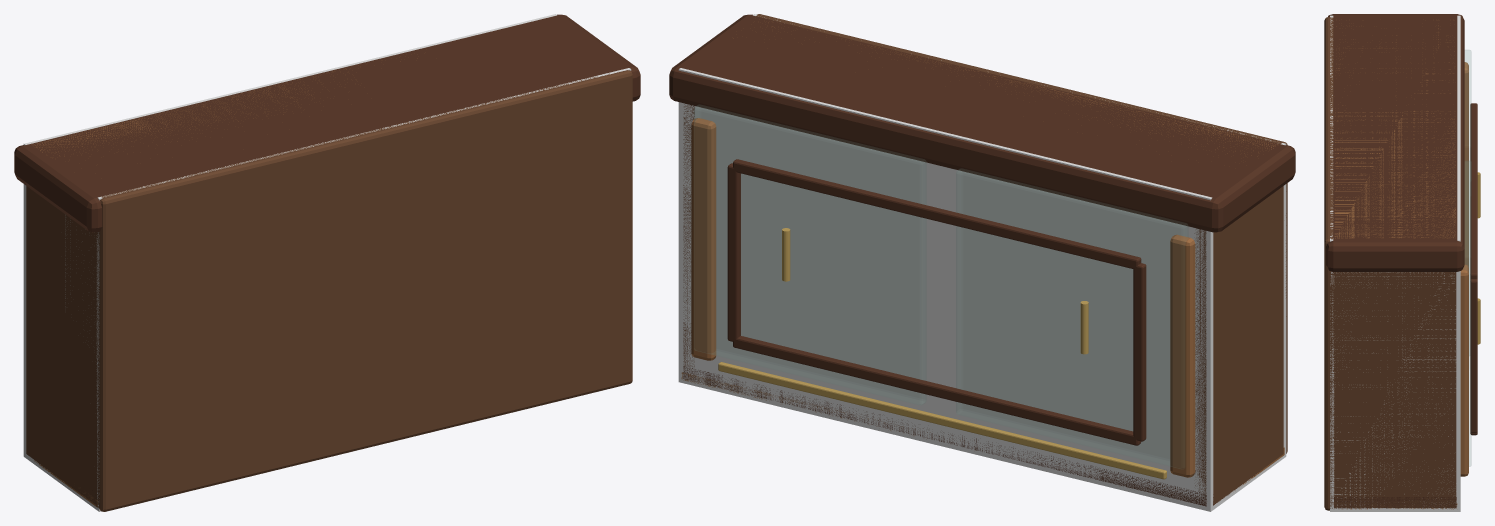
The model's file is executive.glb.
3 renders of one model, left to right at view 1: azimuth 30°, elevation 25°; view 2: azimuth 150°, elevation 25°; view 3: azimuth 270°, elevation 25°, orthographic. The views are drawn at different scales.
Visible parts, largest first — view 1: Cabinet_Back.004, Cabinet_Cornice, Cabinet_Side.008, COL_WALL_CABINETS_EXECUTIVE, Cabinet_Top.004; view 2: COL_WALL_CABINETS_EXECUTIVE, Cabinet_Cornice, Cabinet_Door_-1.004, Cabinet_Door_1.004, Cabinet_Side.008, Cabinet_FlutedPilaster, Cabinet_FlutedPilaster.001, Cabinet_TrimTop.002, Cabinet_TrimBottom.002, Cabinet_BrassToeKick.001, Cabinet_Bottom.004, Cabinet_Back.004 (+3 smaller); view 3: Cabinet_Cornice, Cabinet_Side.009, Cabinet_Back.004, COL_WALL_CABINETS_EXECUTIVE, Cabinet_Top.004, Cabinet_FlutedPilaster.001, Cabinet_TrimTop.002, Cabinet_TrimRight.002, Cabinet_Bottom.004, Cabinet_Door_1.004, Cabinet_FlutedPilaster, Cabinet_Door_-1.004.
Part boxes in pixels (x1,y1,x2,y2): Cabinet_Back.004: (95,70,632,511); Cabinet_Cornice: (14,14,640,232); Cabinet_Side.008: (26,186,96,504); COL_WALL_CABINETS_EXECUTIVE: (23,14,631,511); Cabinet_Top.004: (31,58,417,156); COL_WALL_CABINETS_EXECUTIVE: (678,14,1286,511); Cabinet_Cornice: (669,14,1295,232); Cabinet_Door_-1.004: (956,169,1188,468); Cabinet_Door_1.004: (694,105,926,405); Cabinet_Side.008: (1194,186,1283,504); Cabinet_FlutedPilaster: (1170,234,1195,477); Cabinet_FlutedPilaster.001: (691,118,716,360); Cabinet_TrimTop.002: (733,159,1141,268); Cabinet_TrimBottom.002: (733,336,1141,445); Cabinet_BrassToeKick.001: (718,362,1166,479); Cabinet_Bottom.004: (683,366,1262,506); Cabinet_Back.004: (756,14,1287,453); Cabinet_Cornice: (1326,14,1464,271); Cabinet_Side.009: (1334,272,1456,507); Cabinet_Back.004: (1324,17,1336,510); COL_WALL_CABINETS_EXECUTIVE: (1330,15,1460,511); Cabinet_Top.004: (1334,25,1455,238); Cabinet_FlutedPilaster.001: (1460,264,1468,476); Cabinet_TrimTop.002: (1470,103,1477,278); Cabinet_TrimRight.002: (1470,279,1477,432); Cabinet_Bottom.004: (1334,497,1456,508); Cabinet_Door_1.004: (1465,161,1471,466); Cabinet_FlutedPilaster: (1464,62,1468,267); Cabinet_Door_-1.004: (1465,50,1471,355).
Size of the model in its own units: 1.87 by 1.01 by 0.5277.
